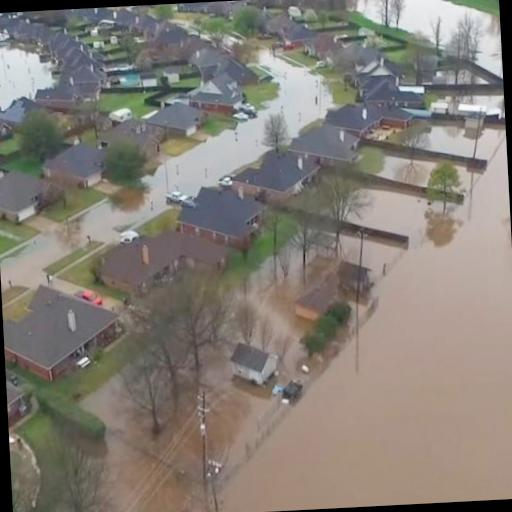flood: (74, 116, 512, 512), (0, 50, 336, 288), (401, 0, 503, 76), (249, 253, 311, 360), (0, 45, 56, 109), (377, 152, 437, 186), (344, 234, 360, 262)
house: (0, 270, 132, 386), (182, 174, 264, 256), (100, 233, 188, 291), (237, 148, 314, 207), (354, 71, 423, 129), (42, 141, 109, 192), (294, 120, 362, 169), (226, 339, 278, 392), (0, 165, 44, 223), (144, 98, 202, 141), (188, 76, 240, 116), (358, 50, 404, 78), (338, 260, 371, 294), (305, 34, 335, 59)
